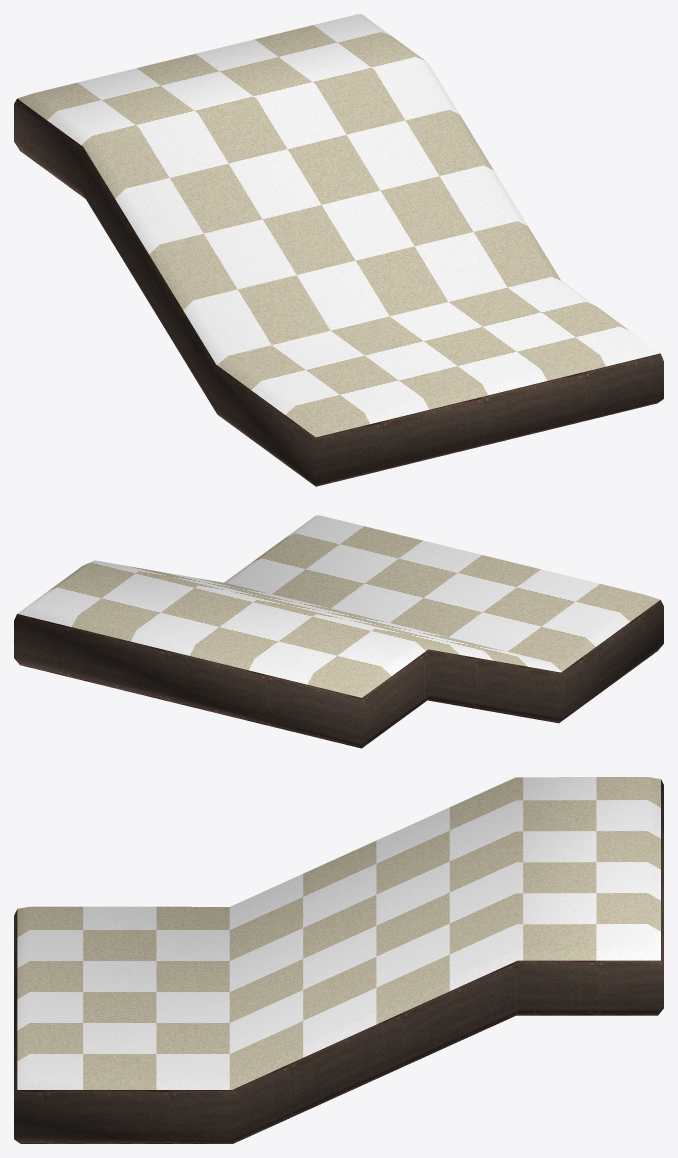
The model's file is DarkCastleStepC.fbx.
3 views of the same model, one above another, from view 1: azimuth 30°, elevation 25°; view 2: azimuth 150°, elevation 25°; view 3: azimuth 270°, elevation 25° (orthographic). The views are drawn at different scales.
Parts seen in each view (by area): view 1: Plane, Plane.001; view 2: Plane, Plane.001; view 3: Plane, Plane.001.
Boxes of the visible parts, x1,y1,x2,y2 form: Plane: (17, 14, 660, 437); Plane.001: (14, 98, 663, 486); Plane: (17, 515, 660, 697); Plane.001: (14, 600, 663, 748); Plane: (17, 777, 660, 1089); Plane.001: (14, 779, 663, 1143).
Bounding box in the file's own units: 90883 × 44408 × 136324.
Materials: 2 (2 with a texture image).
